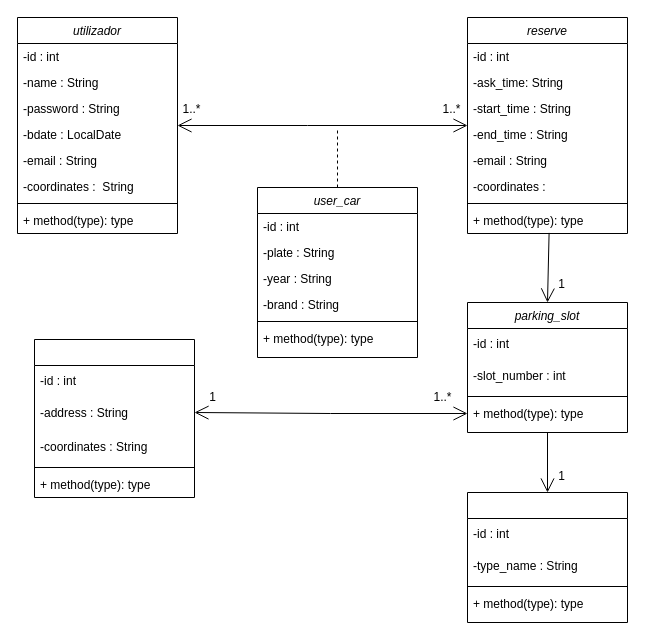
Some shapes in this 645 by 640 pixel diagram are drawn without their labels. Here are the shapes that lost their labels. From the top down, the box of each, then its label:
(34, 338, 194, 498): parking
(466, 492, 628, 622): parking_slot_type
